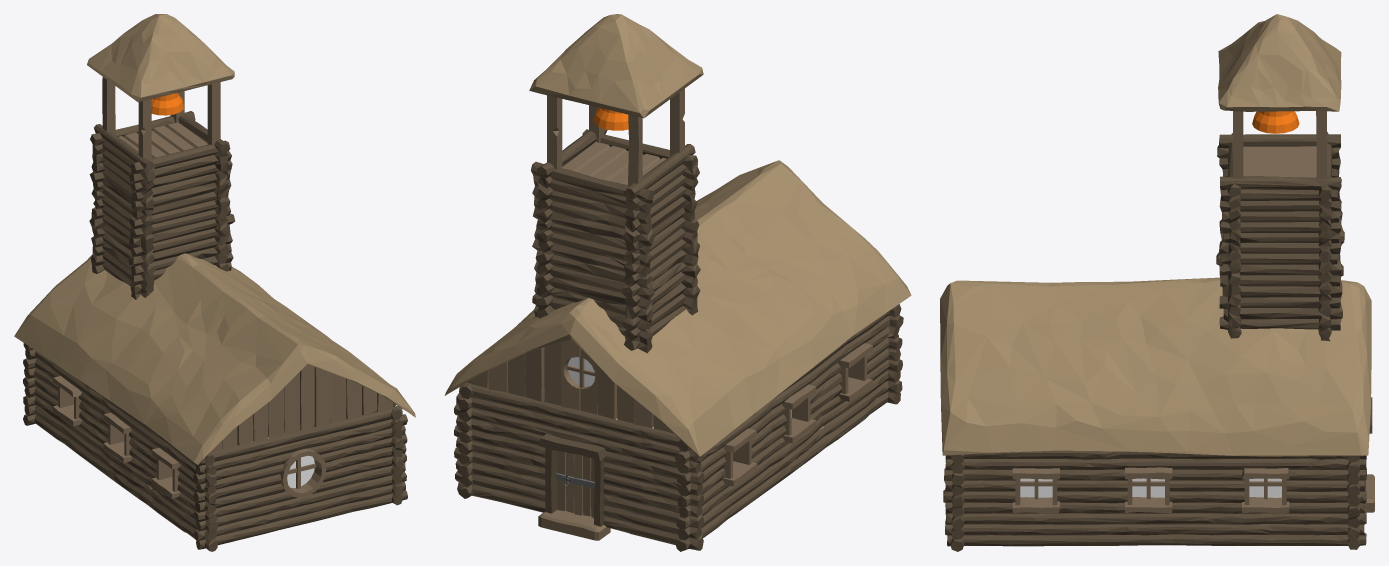
The model's file is church_a.FBX.
3 views of the same model, side by side, from view 1: azimuth 30°, elevation 25°; view 2: azimuth 150°, elevation 25°; view 3: azimuth 270°, elevation 25° (orthographic). The views are drawn at different scales.
Visible parts, largest first — view 1: church_a; view 2: church_a; view 3: church_a.
Part boxes in pixels (x1=…): church_a: x1=14, y1=14, x2=415, y2=551; church_a: x1=444, y1=14, x2=911, y2=551; church_a: x1=940, y1=14, x2=1374, y2=551.
Bounding box in the file's own units: 7.97 × 14.28 × 11.68.
